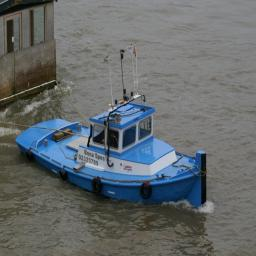tugboat: (14, 87, 213, 217)
